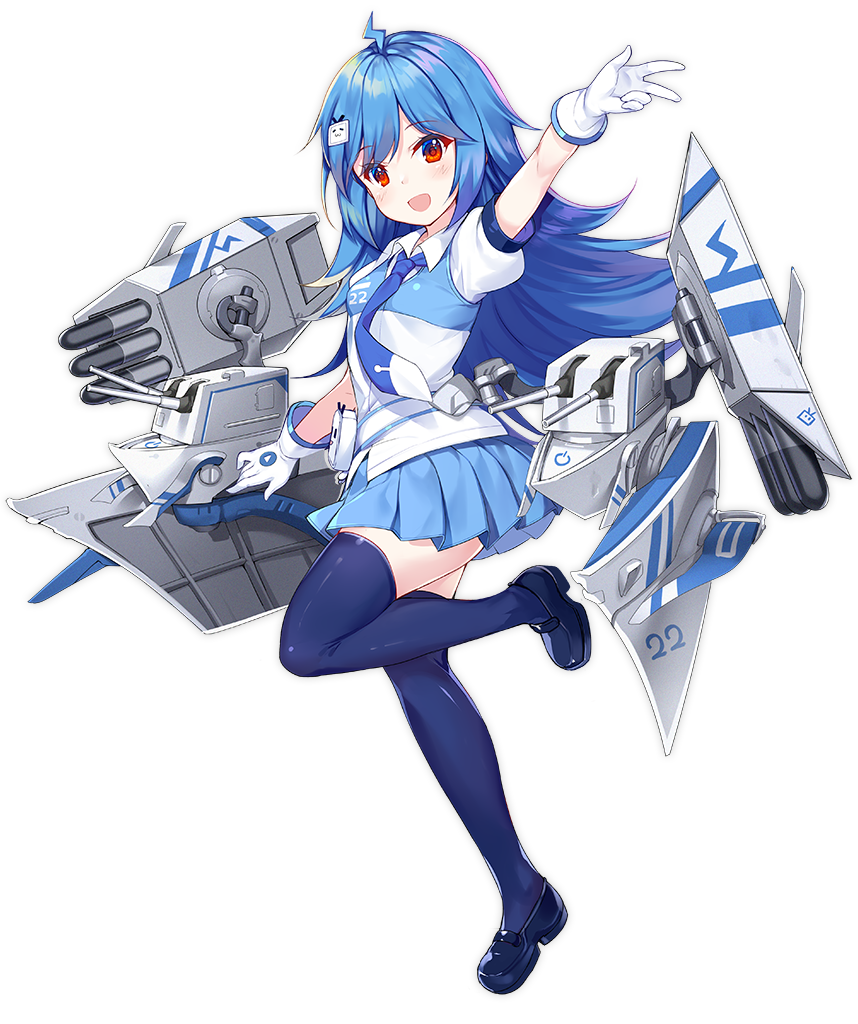person: (186, 18, 645, 825)
